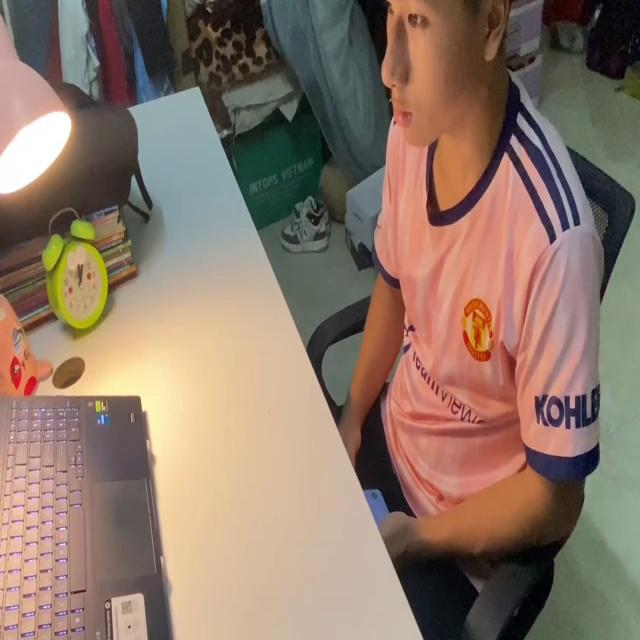laptop: (0, 386, 174, 640)
student: (336, 0, 603, 555)
